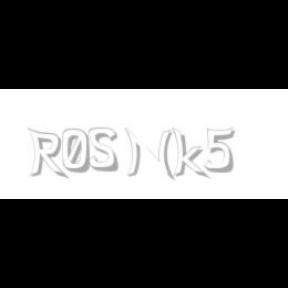0: (62, 128, 94, 174)
5: (204, 128, 234, 174)
N: (124, 128, 172, 180)
R: (28, 128, 66, 180)
S: (88, 128, 120, 172)
k: (172, 128, 210, 180)
